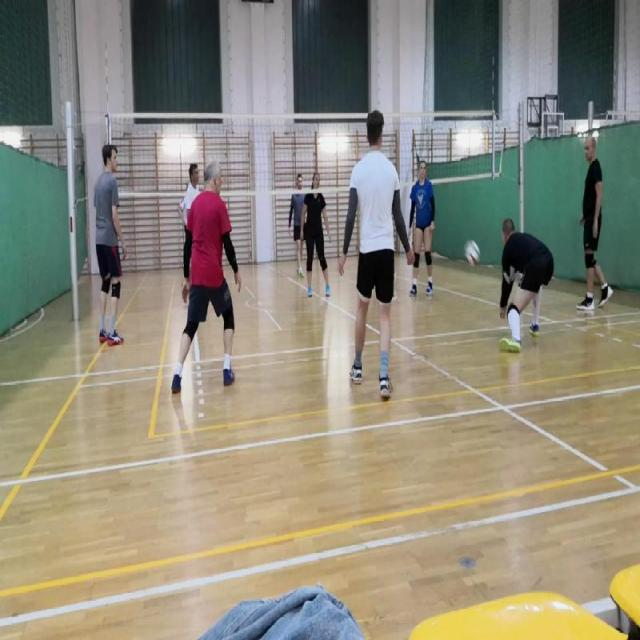volleyball: (464, 240, 479, 265)
